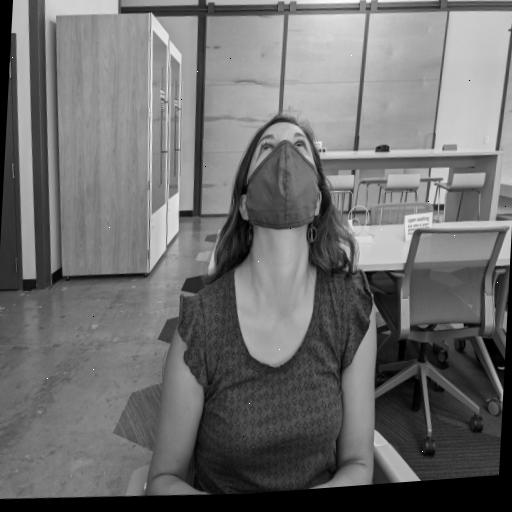mask: (240, 120, 324, 238)
